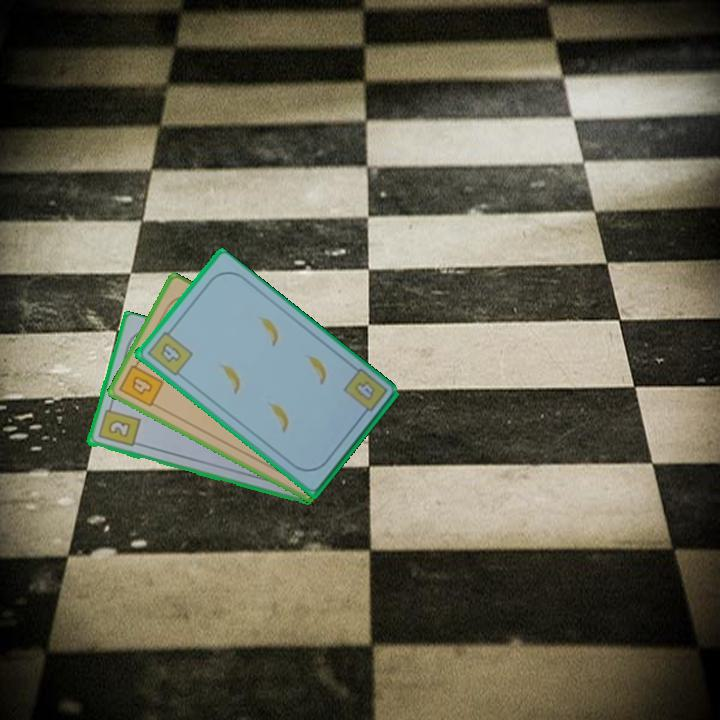2b: (94, 400, 142, 450)
4b: (143, 324, 195, 379), (340, 365, 390, 421), (116, 356, 167, 410)
